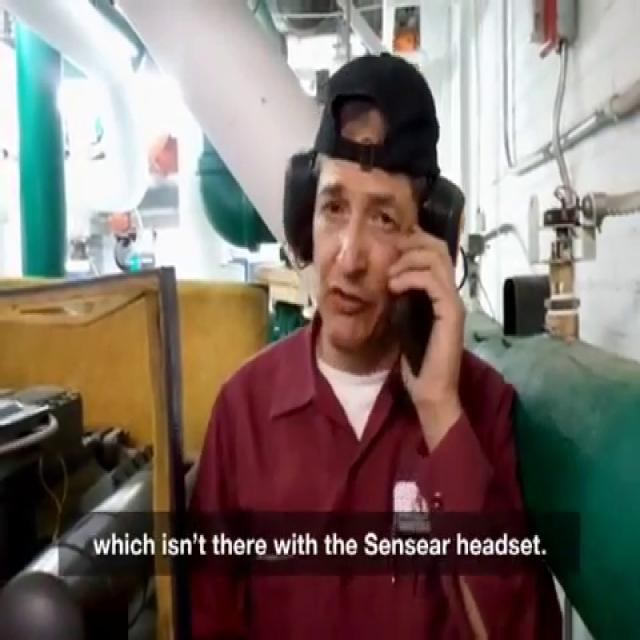earmuff: (279, 148, 321, 273)
